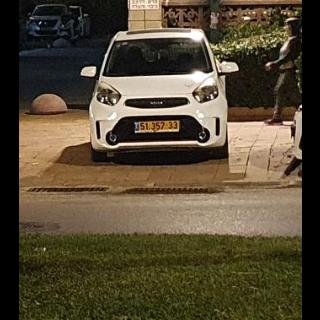LicensePlate: (140, 121, 179, 131)
